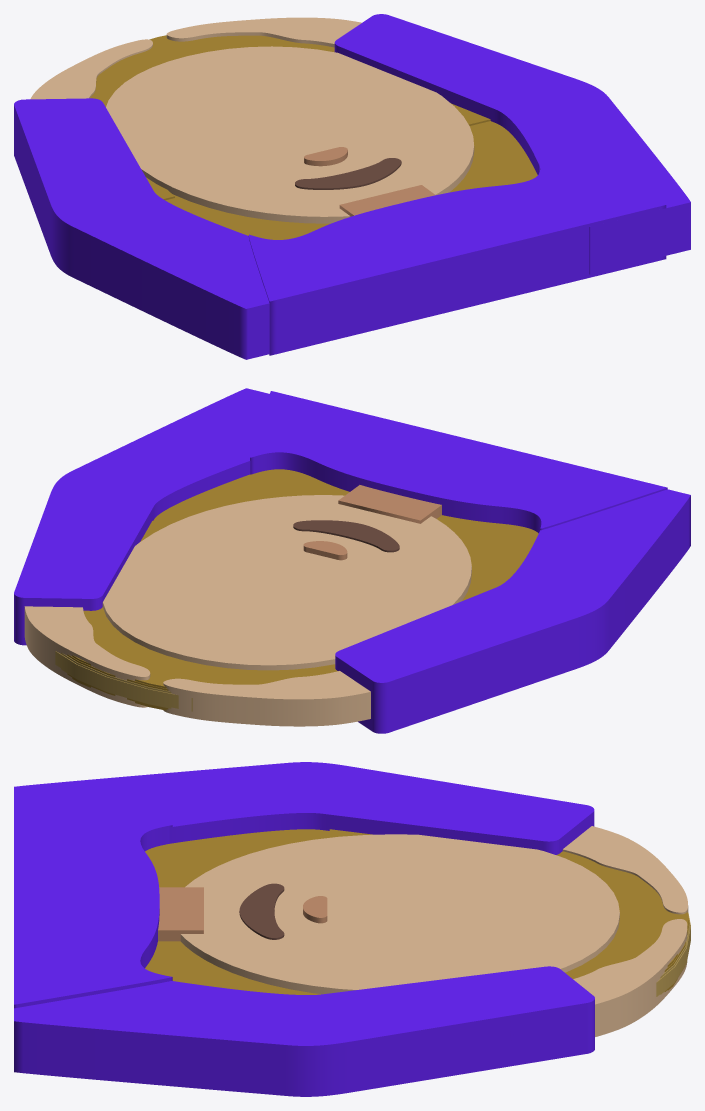
The model's file is emoji_u1f646_1f3fc_200d_2640.glb.
The picture shows the model from 3 angles, top to bottom: view 1: azimuth 30°, elevation 25°; view 2: azimuth 150°, elevation 25°; view 3: azimuth 270°, elevation 25°; orthographic projection. The views are drawn at different scales.
Parts seen in each view (by area): view 1: emoji_u1f646_1f3fc_200d_2640; view 2: emoji_u1f646_1f3fc_200d_2640; view 3: emoji_u1f646_1f3fc_200d_2640.
Boxes of the visible parts, bbox=[...] form: emoji_u1f646_1f3fc_200d_2640: bbox=[14, 14, 690, 359]; emoji_u1f646_1f3fc_200d_2640: bbox=[14, 388, 690, 733]; emoji_u1f646_1f3fc_200d_2640: bbox=[14, 762, 690, 1096].
Bounding box in the file's own units: 0.0333 × 0.0032 × 0.0337.
